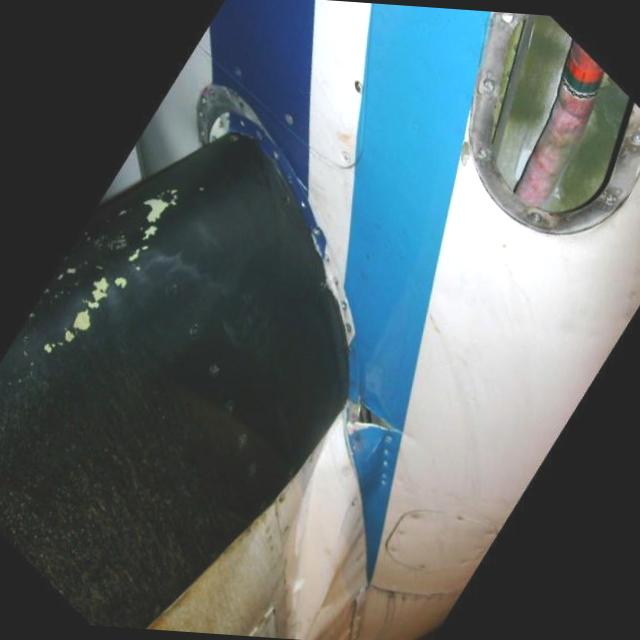crack: (341, 396, 412, 442)
